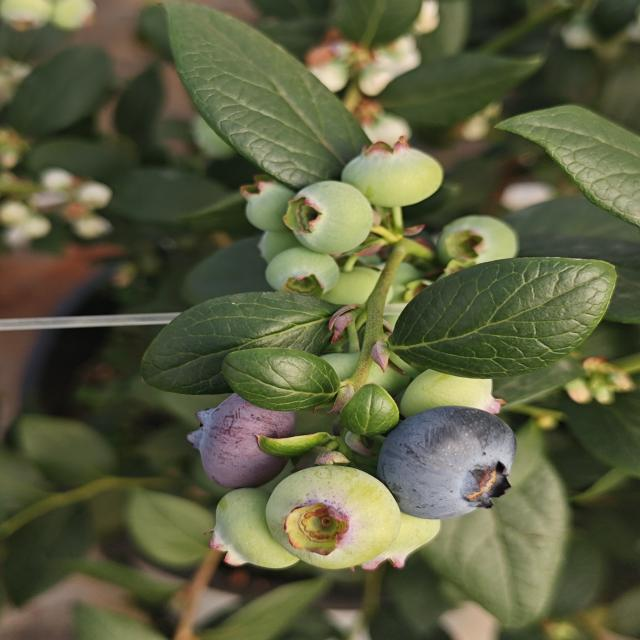ripe: (375, 392, 518, 525), (167, 386, 311, 492)
